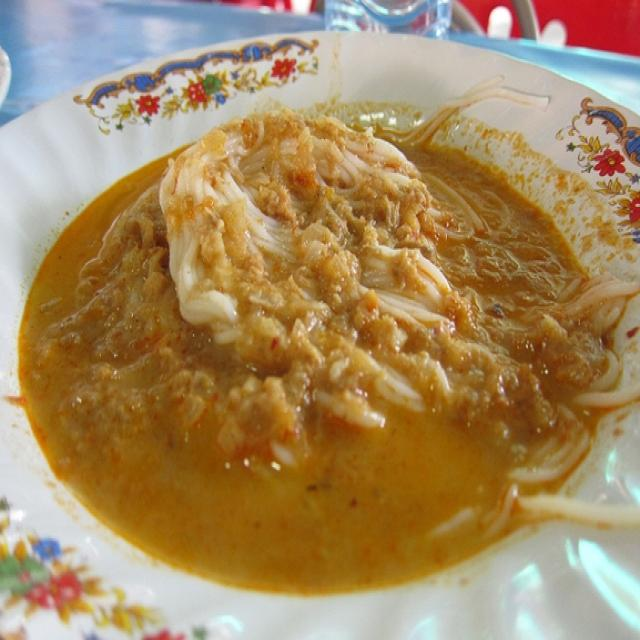面条主食: (6, 27, 634, 625)
